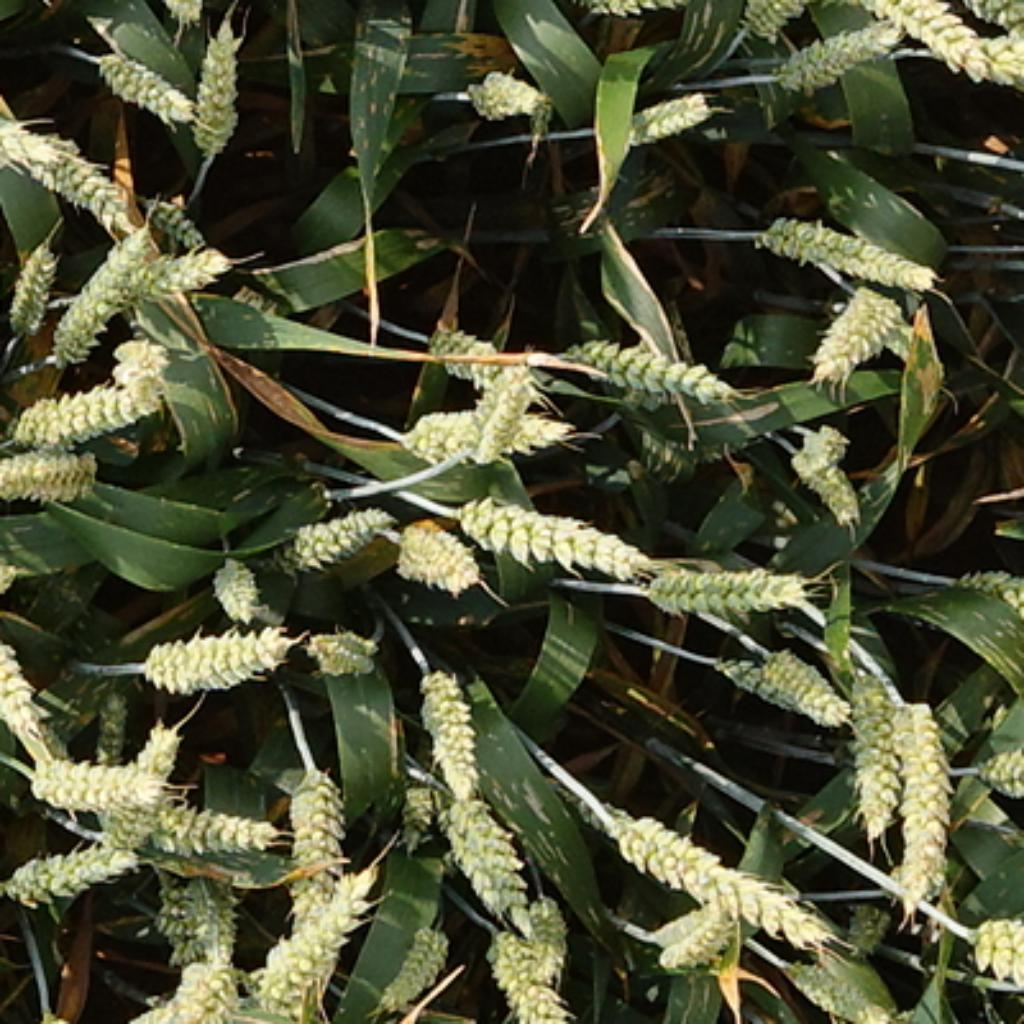0-0: (616, 808, 834, 952), (250, 866, 378, 1024), (458, 481, 657, 576), (747, 202, 947, 284), (0, 104, 133, 222), (893, 698, 960, 919), (46, 230, 158, 353), (437, 785, 535, 924), (574, 328, 736, 412), (842, 657, 908, 849), (5, 368, 174, 442), (133, 614, 291, 688), (284, 762, 350, 939), (632, 550, 808, 616), (23, 739, 179, 811), (99, 716, 186, 844), (834, 0, 1003, 64), (765, 12, 903, 89), (806, 284, 908, 386), (396, 407, 581, 463), (2, 839, 143, 911), (640, 893, 752, 975), (458, 363, 542, 471), (757, 645, 860, 732), (133, 791, 273, 855), (148, 862, 240, 957), (186, 17, 250, 153), (778, 954, 901, 1024), (486, 926, 573, 1024), (281, 494, 394, 568), (131, 948, 241, 1024), (94, 53, 197, 132), (419, 668, 481, 798), (373, 913, 453, 1006), (427, 317, 527, 389), (130, 240, 235, 307), (391, 509, 478, 586), (0, 437, 104, 501), (0, 76, 69, 171), (783, 448, 865, 527), (0, 624, 51, 739), (711, 652, 798, 716), (463, 67, 553, 128), (622, 87, 711, 148), (555, 780, 645, 839), (128, 184, 209, 248), (2, 238, 58, 330), (962, 908, 1024, 983), (302, 616, 381, 673), (94, 680, 133, 793), (524, 890, 568, 990), (952, 560, 1024, 619), (107, 327, 168, 394), (206, 557, 263, 624), (739, 0, 834, 40), (394, 775, 442, 844), (839, 890, 896, 947), (967, 33, 1024, 89), (798, 417, 857, 468), (934, 0, 1024, 30), (980, 739, 1024, 798)
